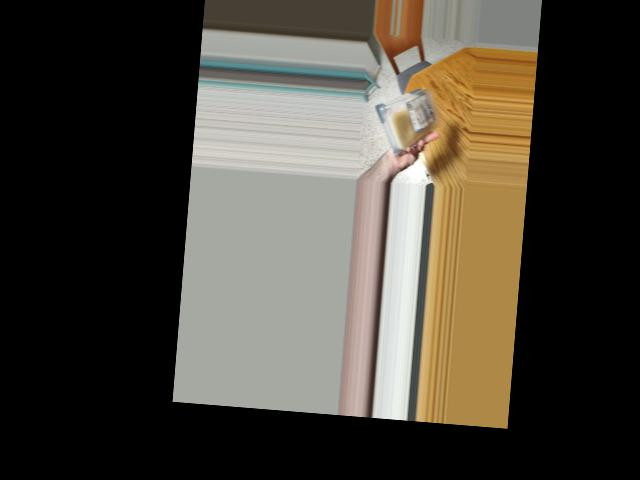cheese: (383, 88, 438, 152)
